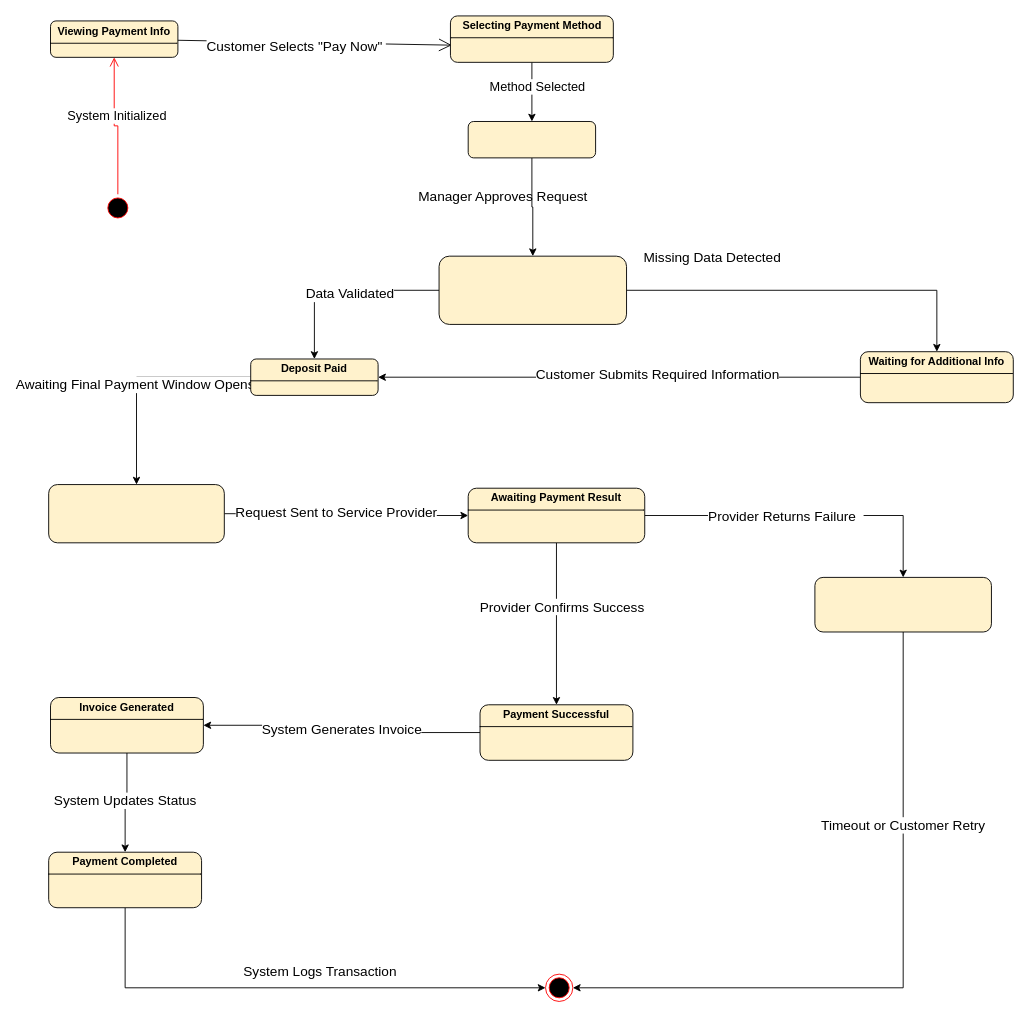
Image size: 1029x1017. Some labels were removed from this diagram. The centre of each missing label's shape, as x and y in pixels:
"Payment Failed" goes at pixel 902 604.
"Pending Approval" goes at pixel 531 139.
"Sending Payment Request" goes at pixel 136 513.
"Verifying Payment Info" goes at pixel 532 289.
